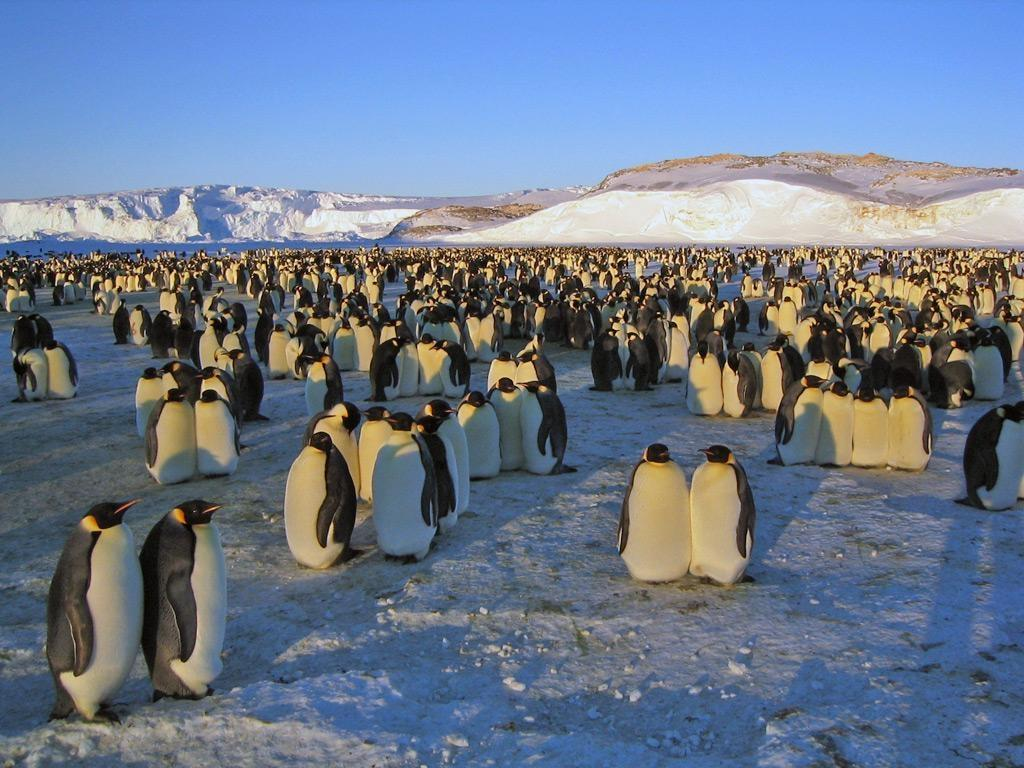Penguin: (46, 500, 144, 720), (140, 500, 226, 700), (618, 444, 690, 582), (284, 432, 356, 568), (372, 412, 438, 559), (690, 446, 756, 584), (374, 412, 438, 536), (956, 400, 1023, 510), (418, 398, 470, 513), (304, 402, 362, 493), (520, 380, 576, 474), (10, 314, 68, 402), (146, 388, 198, 483), (770, 376, 824, 466), (888, 368, 932, 470), (194, 390, 238, 476), (458, 392, 500, 477), (186, 366, 242, 429), (488, 378, 526, 469), (814, 382, 854, 466), (418, 334, 470, 397), (358, 406, 392, 502), (930, 336, 974, 409), (379, 318, 419, 396), (850, 386, 888, 466), (224, 352, 268, 421), (296, 352, 344, 415), (610, 318, 652, 389), (686, 340, 722, 415), (368, 338, 406, 402), (722, 350, 756, 418), (762, 344, 794, 410), (590, 326, 622, 391), (158, 360, 204, 405), (644, 308, 669, 386), (44, 340, 78, 397), (286, 325, 321, 378), (974, 338, 1004, 399), (664, 314, 690, 382), (892, 332, 922, 387), (516, 350, 556, 391), (807, 346, 840, 395), (198, 316, 228, 368), (836, 356, 871, 400), (873, 318, 895, 388), (220, 304, 249, 354), (250, 308, 274, 366), (354, 314, 378, 371), (913, 338, 934, 402), (992, 325, 1013, 385), (693, 301, 718, 350), (268, 324, 290, 379), (332, 320, 356, 370), (483, 306, 503, 365), (149, 310, 174, 357), (488, 352, 518, 389), (510, 299, 535, 343), (575, 300, 596, 352), (136, 386, 158, 435), (1002, 311, 1023, 362), (794, 316, 818, 359), (703, 328, 731, 363), (718, 297, 739, 343), (734, 292, 756, 335), (818, 299, 845, 334), (463, 306, 480, 361), (515, 331, 545, 362), (843, 300, 875, 329), (852, 323, 874, 365), (200, 285, 227, 319), (823, 326, 850, 360), (174, 315, 195, 358), (130, 304, 152, 345), (129, 305, 151, 345), (260, 284, 283, 322), (595, 298, 618, 336), (439, 308, 459, 351), (631, 298, 655, 333), (546, 299, 565, 343), (888, 300, 912, 333), (993, 295, 1020, 324), (778, 296, 798, 335), (397, 295, 416, 335), (931, 318, 954, 351), (949, 302, 972, 335), (160, 288, 186, 317), (345, 287, 370, 317), (758, 300, 778, 336), (419, 309, 441, 341), (564, 301, 580, 345), (366, 302, 390, 330), (916, 308, 938, 338), (19, 277, 37, 313), (113, 305, 130, 343), (967, 321, 992, 345), (791, 279, 811, 309), (678, 291, 699, 319), (365, 268, 380, 306), (534, 301, 548, 341), (500, 302, 515, 339), (922, 287, 945, 310), (1007, 263, 1022, 297), (342, 299, 362, 324), (59, 273, 75, 304), (981, 284, 997, 315), (316, 271, 333, 299), (318, 310, 336, 336), (294, 285, 312, 311), (891, 273, 909, 299), (907, 281, 922, 311), (189, 300, 202, 334), (246, 273, 262, 300), (440, 287, 458, 311), (536, 285, 553, 310), (880, 271, 895, 299), (459, 292, 470, 330), (234, 264, 247, 296), (51, 278, 66, 305), (91, 279, 107, 304), (332, 280, 343, 316), (997, 265, 1011, 293), (468, 271, 491, 288), (4, 284, 17, 314), (287, 311, 305, 332), (989, 274, 1001, 305), (452, 270, 468, 293), (104, 285, 117, 313), (859, 284, 874, 308), (556, 277, 574, 297), (580, 284, 598, 304), (814, 273, 830, 295), (422, 270, 438, 292), (739, 272, 751, 301), (500, 279, 517, 299), (783, 282, 797, 306), (544, 264, 557, 289), (1014, 268, 1023, 304), (189, 284, 203, 307), (306, 307, 321, 328), (165, 268, 180, 289), (840, 285, 855, 306), (273, 284, 285, 310), (315, 296, 332, 314), (578, 270, 593, 290), (528, 273, 541, 296), (123, 272, 137, 293), (903, 279, 917, 300), (761, 259, 775, 280), (405, 274, 420, 293), (75, 273, 85, 301), (487, 285, 501, 305), (91, 297, 106, 314), (869, 269, 884, 286), (705, 277, 716, 300), (301, 271, 313, 292), (753, 278, 766, 297), (159, 266, 170, 288), (513, 261, 524, 283), (384, 263, 396, 283), (642, 282, 657, 298), (417, 288, 430, 306), (788, 261, 801, 278), (338, 271, 348, 293), (495, 260, 503, 286), (276, 269, 285, 291), (115, 272, 125, 291), (601, 270, 611, 289), (137, 272, 146, 292), (286, 269, 295, 289), (834, 278, 844, 296), (634, 261, 645, 277), (150, 268, 158, 289), (312, 270, 319, 292), (572, 274, 582, 289), (823, 290, 836, 301), (427, 294, 437, 308), (468, 294, 481, 304), (815, 260, 825, 272), (350, 271, 356, 290), (120, 297, 127, 309)
